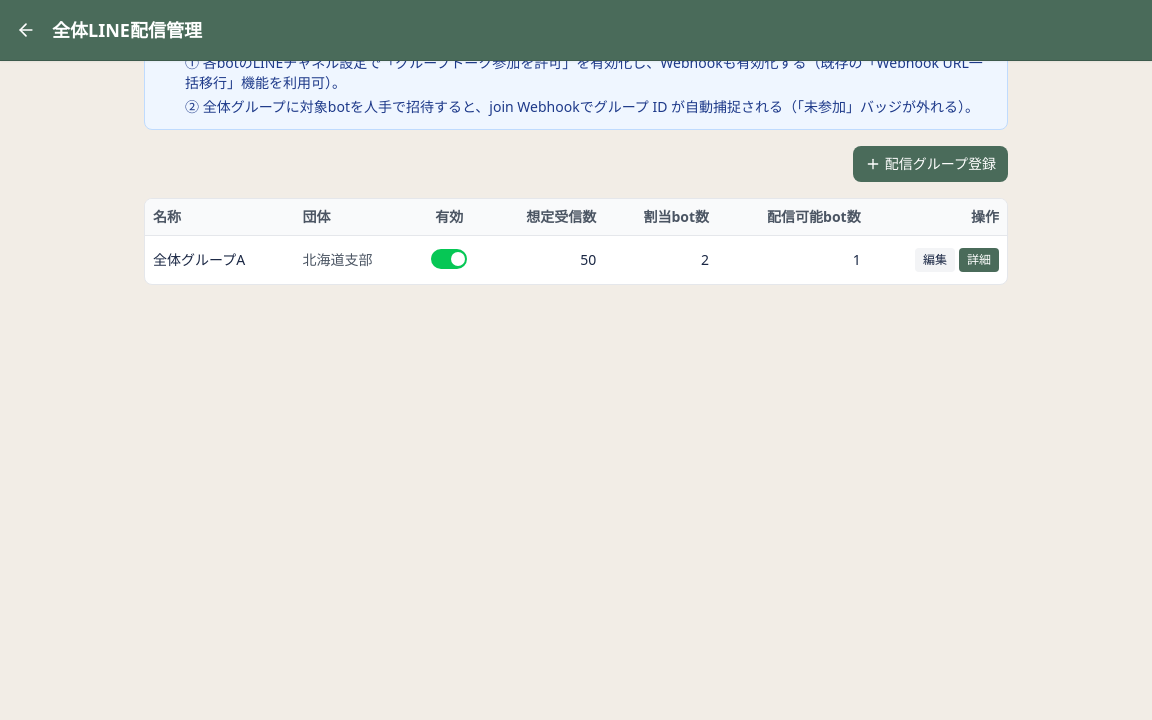
Test: CardDivisionBroadcastAdmin › shows a recent-skip alert and lists broadcast logs
Expected: the text "全体グループA" is shown, [145, 236, 294, 284]
Step 1. Click the button "詳細" → (979,260), box [959, 248, 999, 272]
(page scrolled)
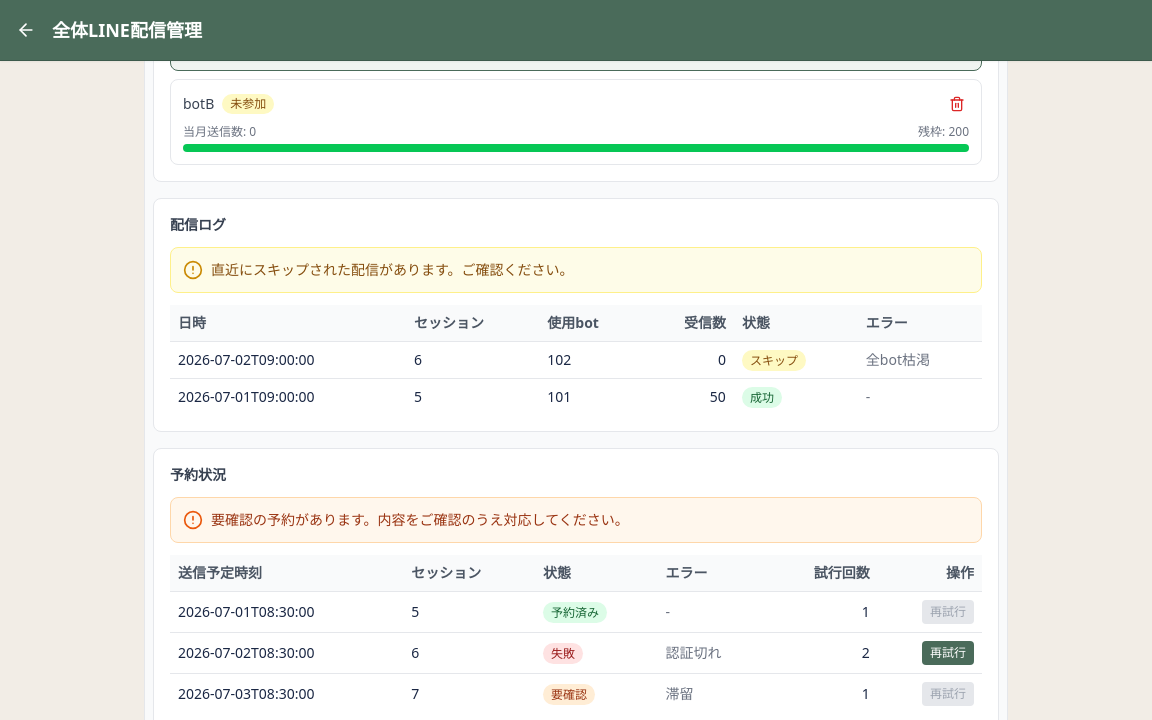
Result: the text "直近にスキップされた配信があります。ご確認ください。" is shown at [211, 260, 574, 280]
Result: the text "成功" is shown at [742, 387, 782, 408]
Result: the text "スキップ" is shown at [742, 350, 806, 371]
